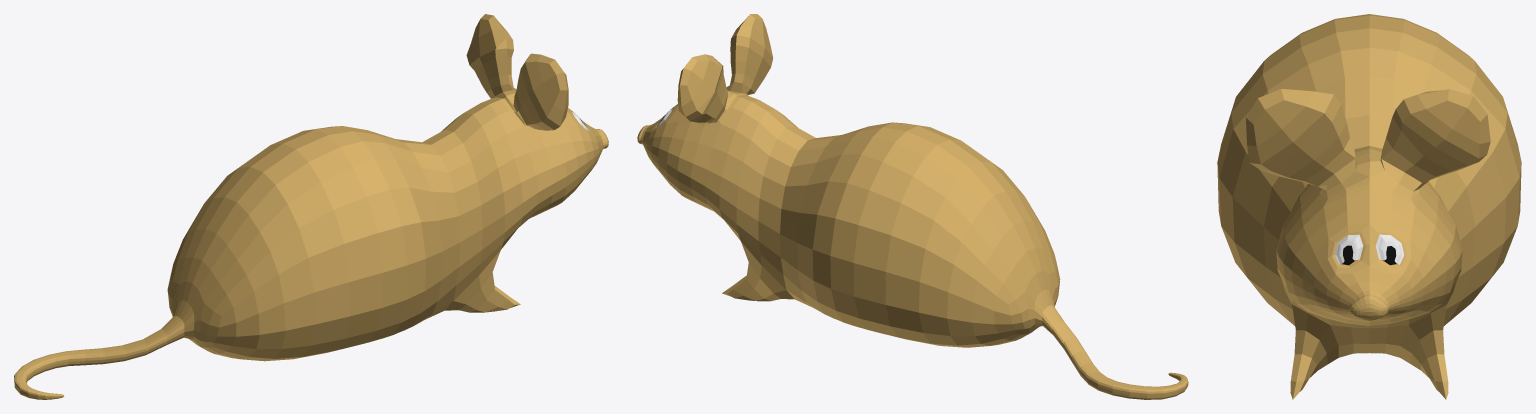
The model's file is SM_Maus_05_gelb.fbx.
3 renders of one model, left to right at view 1: azimuth 30°, elevation 25°; view 2: azimuth 150°, elevation 25°; view 3: azimuth 270°, elevation 25°, orthographic. The views are drawn at different scales.
Visible parts, largest first — view 1: SM_Maus; view 2: SM_Maus; view 3: SM_Maus.
Boxes of the visible parts, x1,y1,x2,y2 form: SM_Maus: (14,14,608,399); SM_Maus: (637,14,1188,399); SM_Maus: (1217,14,1521,399).
Bounding box in the file's own units: 202 × 81.88 × 66.92.
